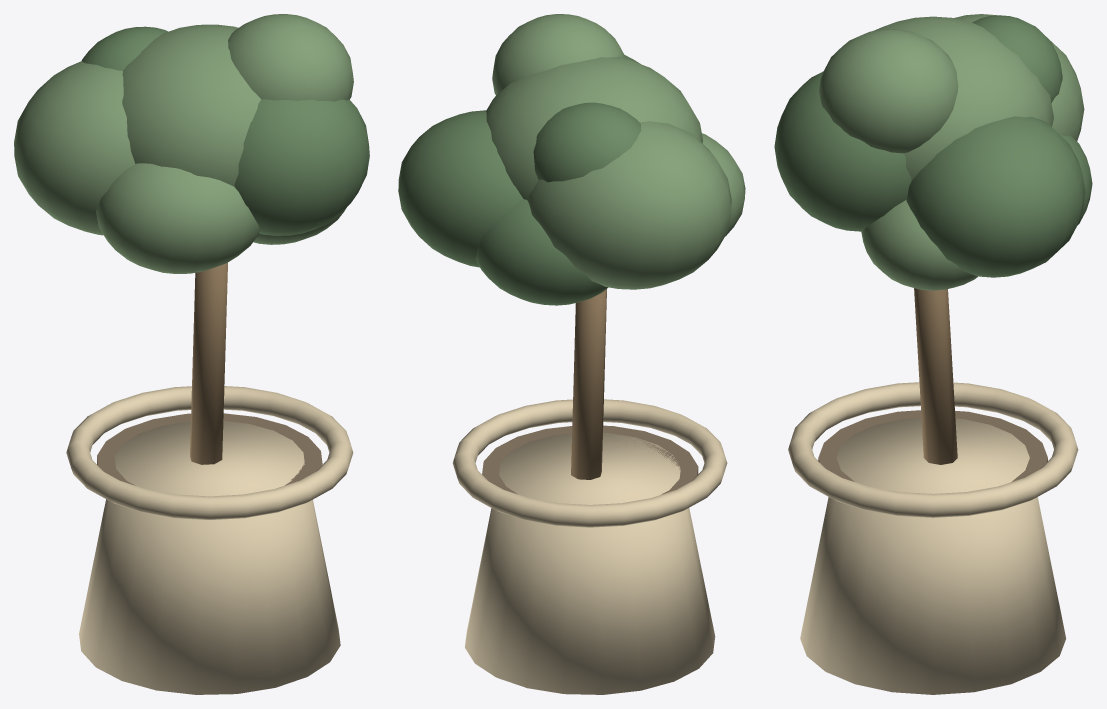
The model's file is potted_plant.glb.
The picture shows the model from 3 angles, left to right: view 1: azimuth 30°, elevation 25°; view 2: azimuth 150°, elevation 25°; view 3: azimuth 270°, elevation 25°; orthographic projection. The views are drawn at different scales.
Visible parts, largest first — view 1: PottedPlant; view 2: PottedPlant; view 3: PottedPlant.
Part boxes in pixels (bbox=[...]): PottedPlant: bbox=[14, 14, 369, 694]; PottedPlant: bbox=[398, 14, 745, 694]; PottedPlant: bbox=[774, 14, 1092, 694].
Bounding box in the file's own units: 0.62 × 1.15 × 0.526.
